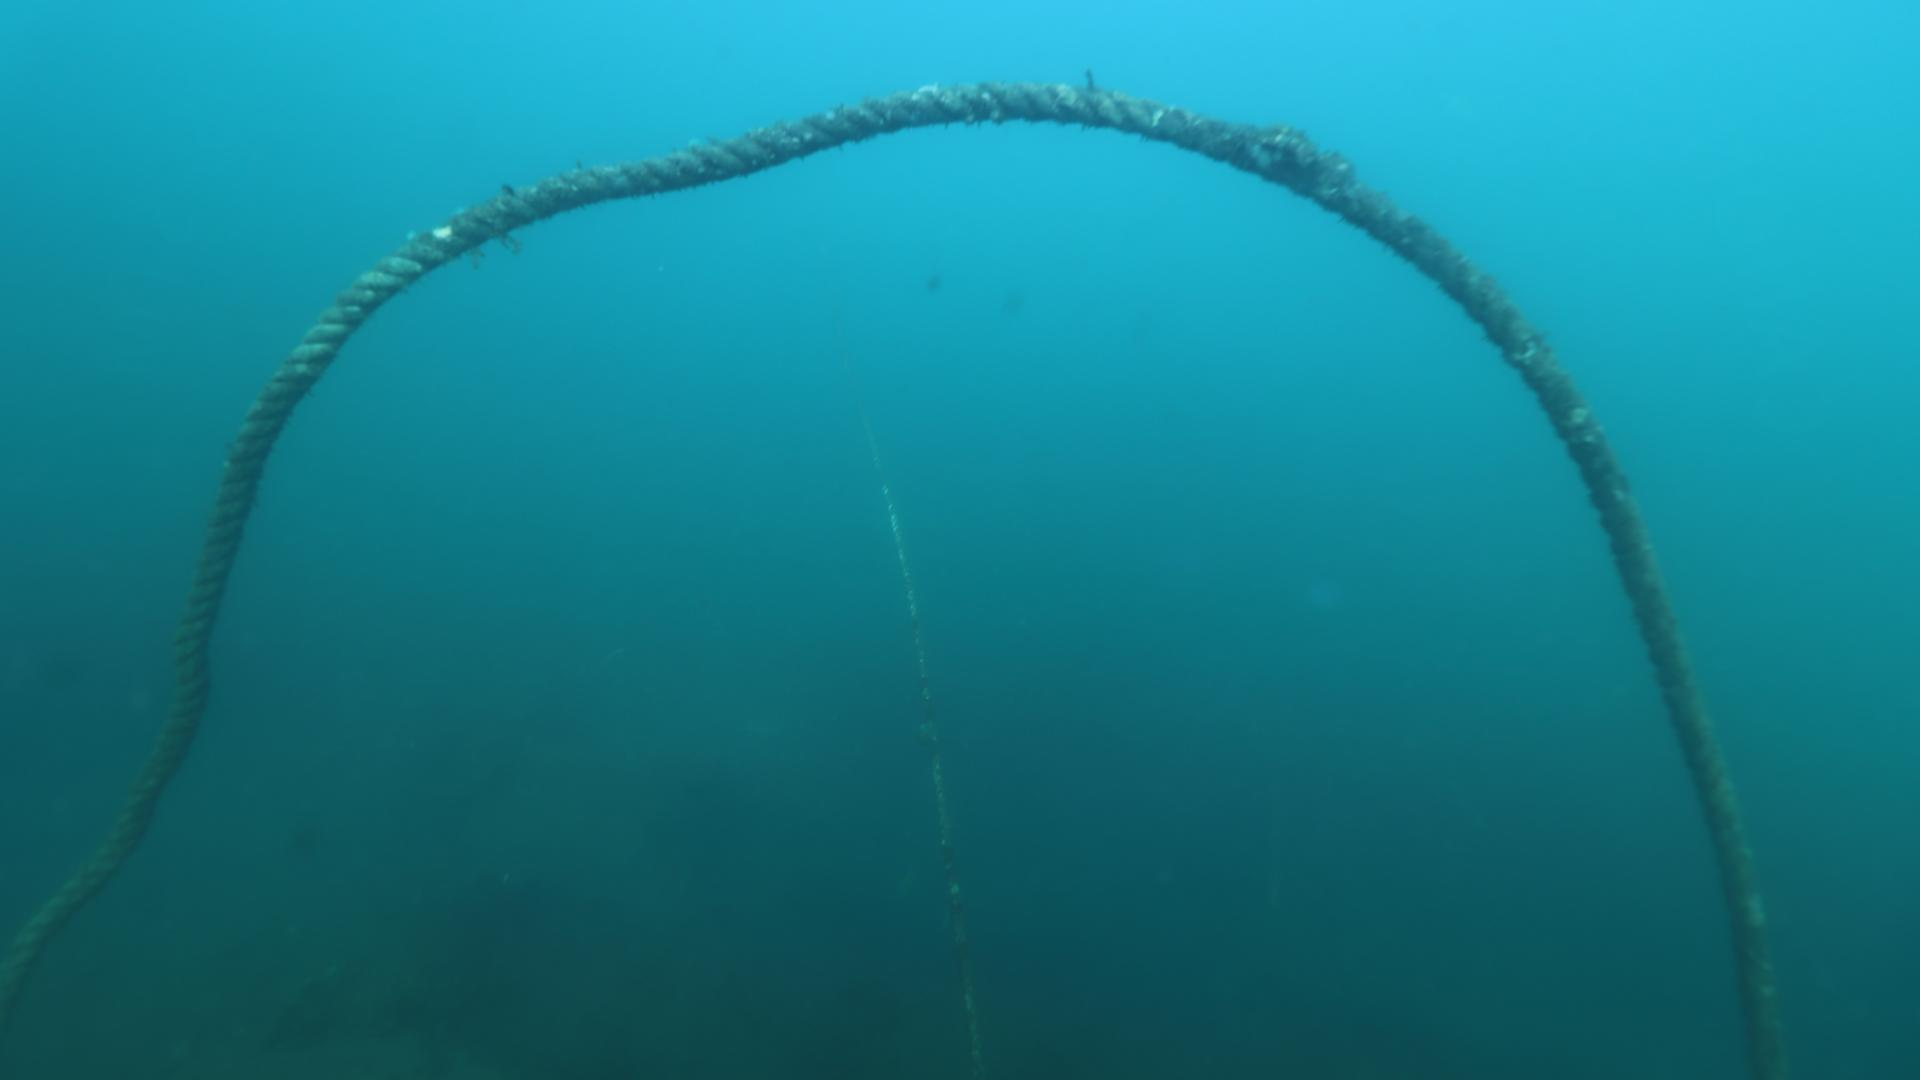rope: (0, 80, 1784, 1080)
